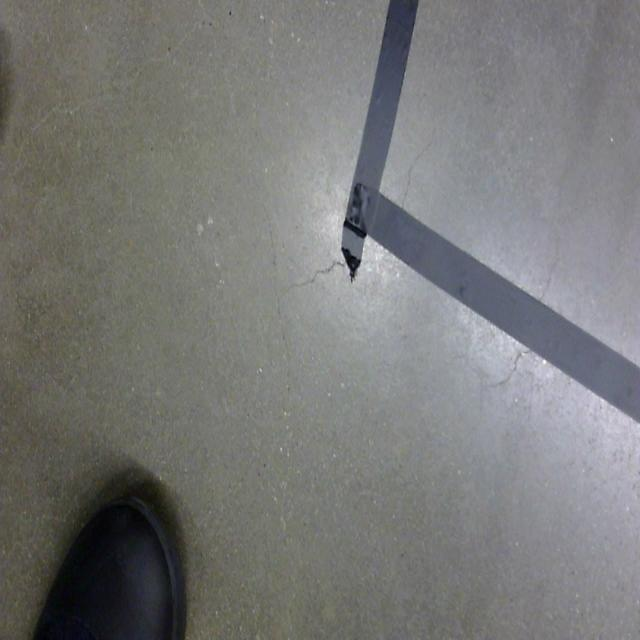tape: (318, 0, 640, 460)
